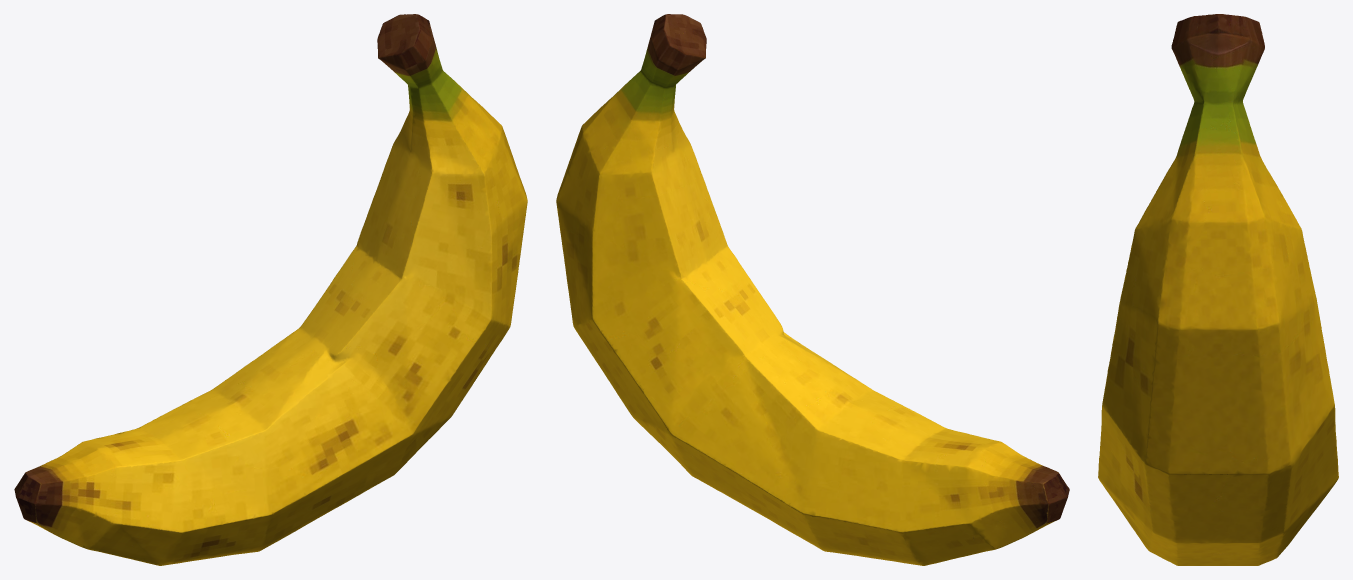
File: bananalowpoly.glb
The picture shows the model from 3 angles, left to right: view 1: azimuth 30°, elevation 25°; view 2: azimuth 150°, elevation 25°; view 3: azimuth 270°, elevation 25°; orthographic projection. The views are drawn at different scales.
Size of the model in its own units: 1.89 by 1.77 by 0.6017.
Materials: 1 (1 with a texture image).
